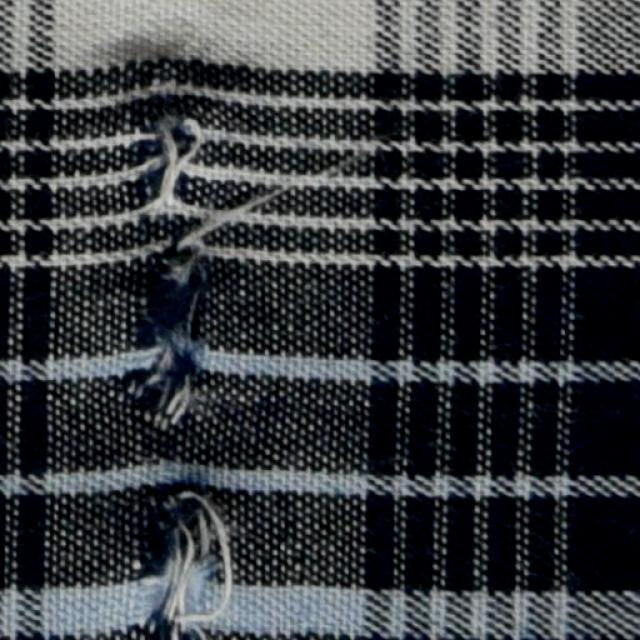Snag: (106, 246, 217, 444), (123, 475, 234, 638), (132, 96, 218, 231)
